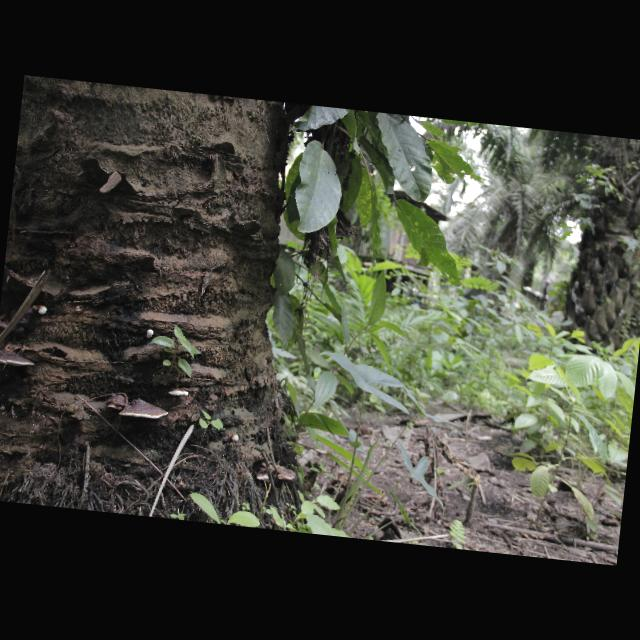ganoderma: (1, 302, 38, 339), (118, 398, 169, 422), (1, 349, 36, 369), (105, 393, 129, 411), (273, 466, 297, 483), (168, 389, 189, 399), (256, 467, 270, 482)
primordium: (39, 306, 49, 316), (230, 434, 239, 444), (145, 329, 154, 339)
